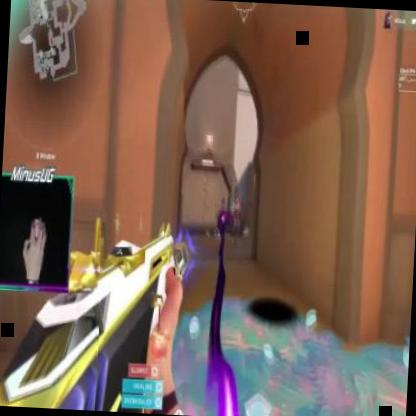enemy: (230, 196, 242, 240)
enemy_head: (235, 196, 238, 206)
